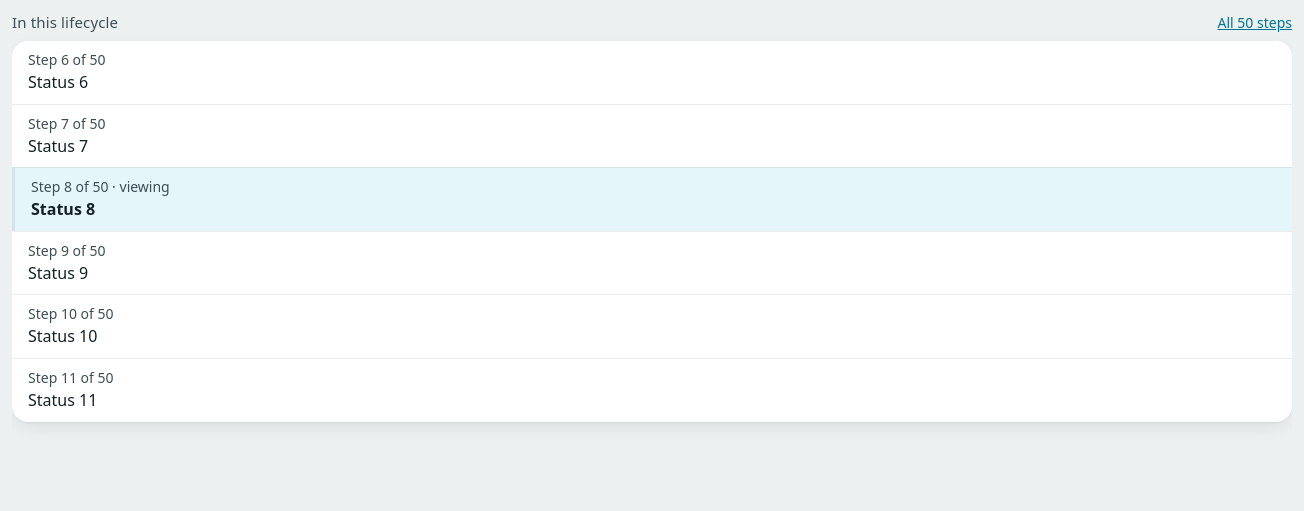
Test: LifecycleRail › 'All N steps' opens the full ordered list, and closes again
Click the button "All 50 steps" at (1255, 22), box [1218,12,1292,33]
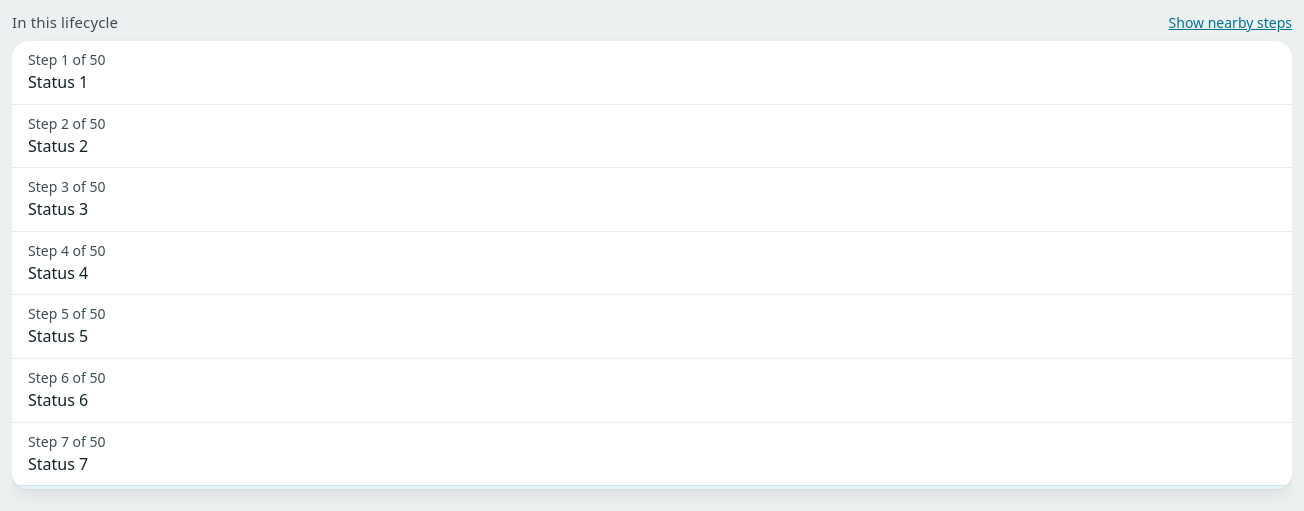
expect the text "Status 1" is shown: met, box [28,71,88,93]
Click the button "Show nearby steps" at (1230, 22), box [1168,12,1292,33]
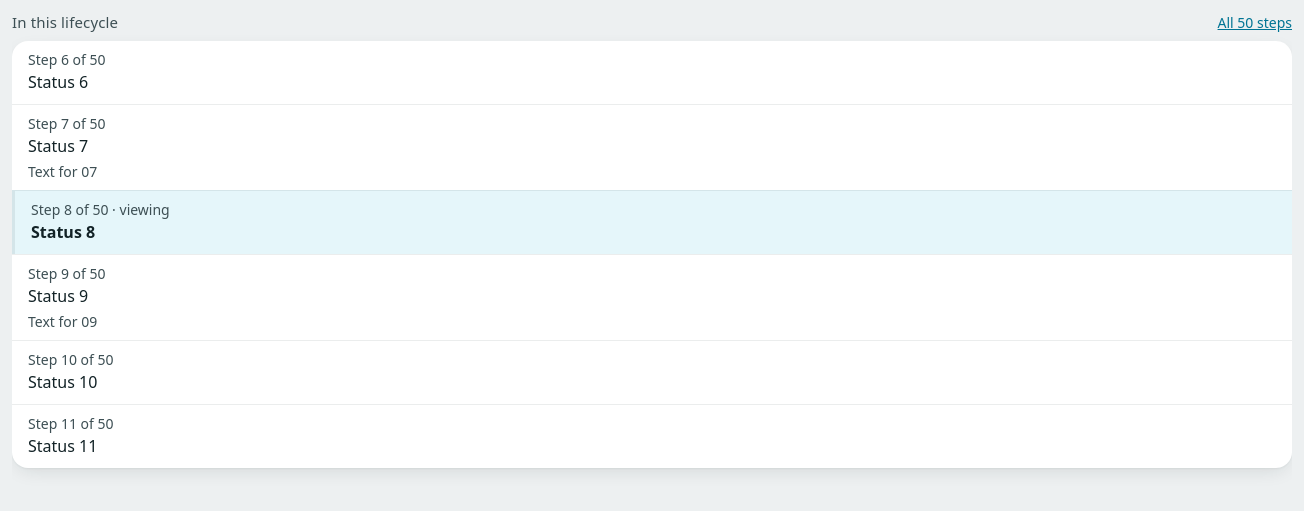
expect the number of list items is 6: met, box [28,50,106,93]; [12,104,1292,190]; [12,190,1292,254]; [12,254,1292,340]; [12,340,1292,404]; [12,404,1292,468]
